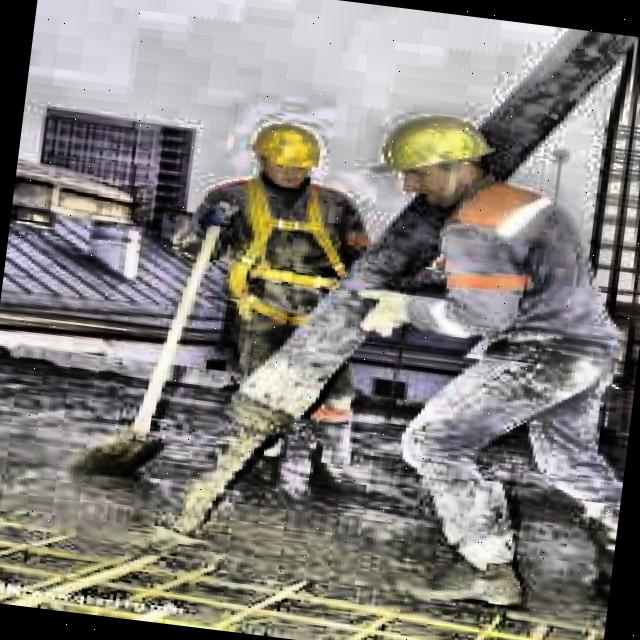helmet: (372, 104, 502, 210), (247, 116, 332, 196)
